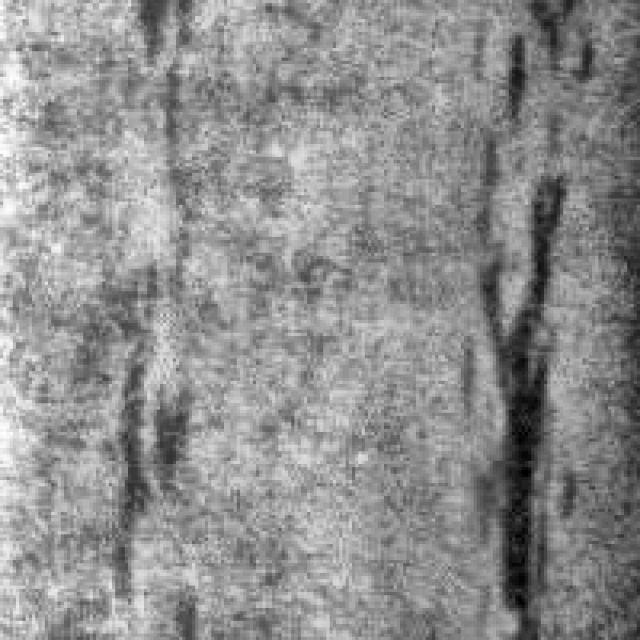Patches: (448, 112, 582, 634), (102, 336, 176, 582), (486, 12, 544, 132)
